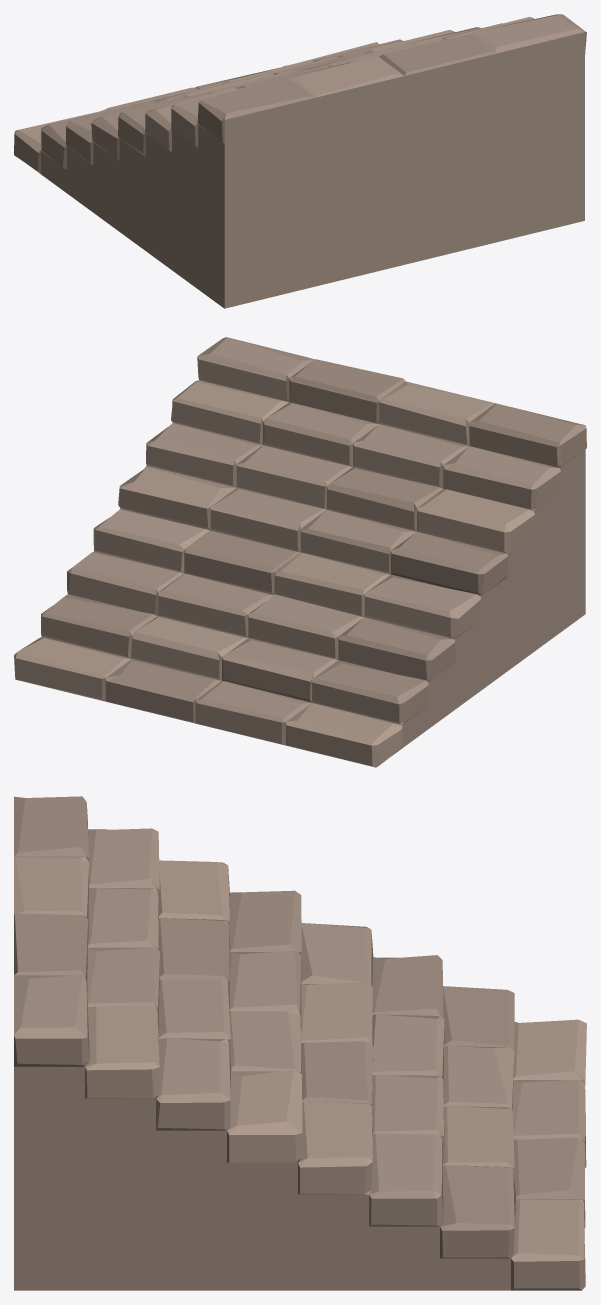
The model's file is Stairs.fbx.
3 views of the same model, one above another, from view 1: azimuth 30°, elevation 25°; view 2: azimuth 150°, elevation 25°; view 3: azimuth 270°, elevation 25° (orthographic). The views are drawn at different scales.
Visible parts, largest first — view 1: Stairs; view 2: Stairs; view 3: Stairs.
Boxes of the visible parts, box(x1,y1,x2,y2) form: Stairs: box(14, 14, 586, 308); Stairs: box(14, 337, 586, 767); Stairs: box(14, 796, 586, 1290).
Bounding box in the file's own units: 2 × 2 × 1.
